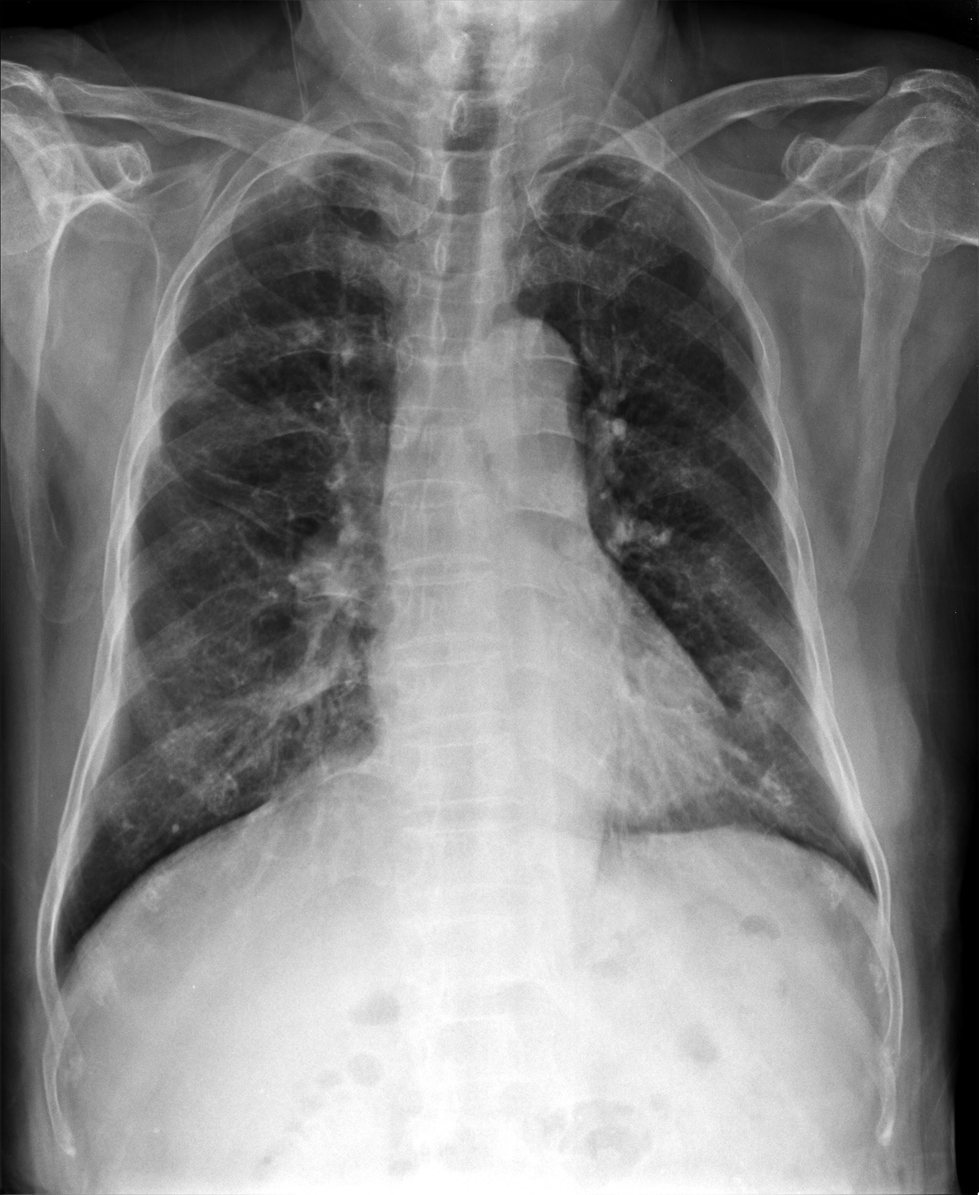Aortic enlargement: (467, 318, 583, 437)
Pleural thickening: (235, 143, 361, 208), (566, 153, 659, 186)
Pulmonary fibrosis: (148, 432, 299, 573), (222, 255, 271, 381)
